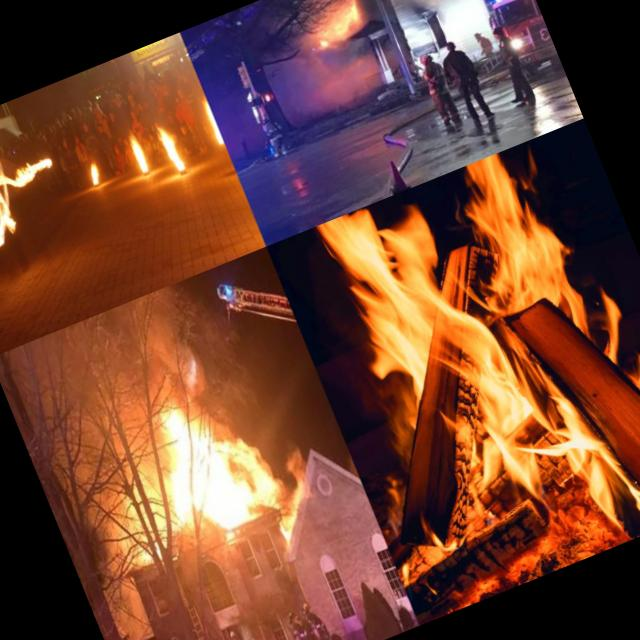fire: (298, 117, 640, 611), (152, 397, 292, 561), (0, 94, 80, 277), (264, 442, 324, 521), (305, 0, 372, 49), (151, 120, 188, 180), (119, 126, 157, 182), (76, 148, 106, 190), (197, 99, 223, 144)
smoke: (264, 34, 380, 128)
